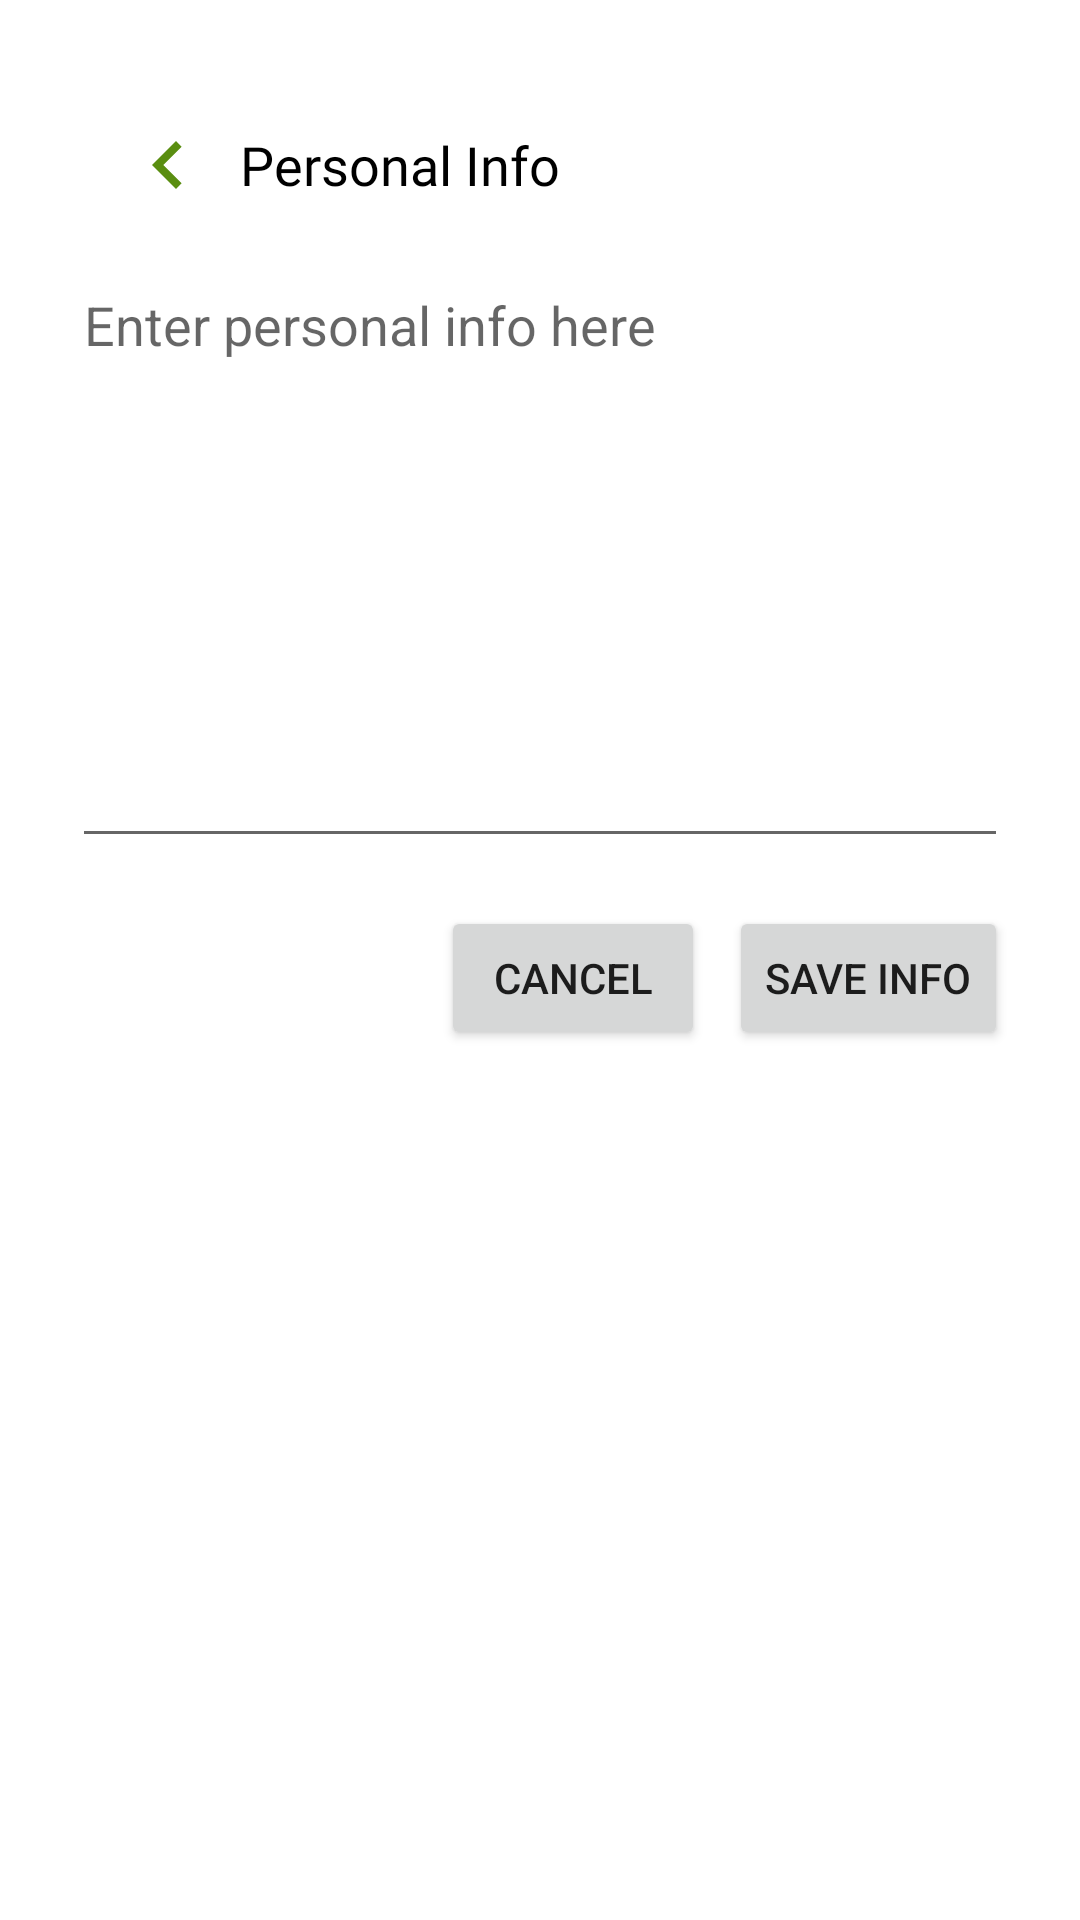

Icons on this 1080w x 1920h Android screen, each with the point to tap as (x,y):
chevron left: (167,165)
